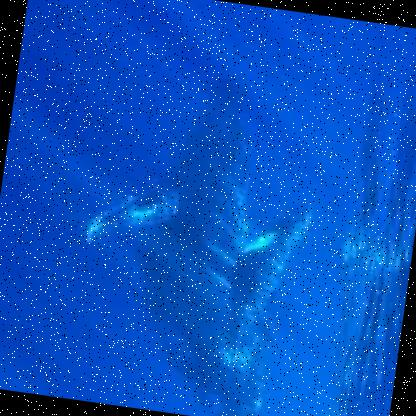blue_whale: (39, 45, 340, 415)
